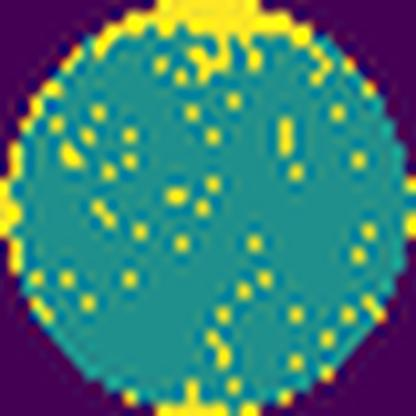Edge-Loc: (90, 0, 335, 78), (155, 374, 234, 416)
